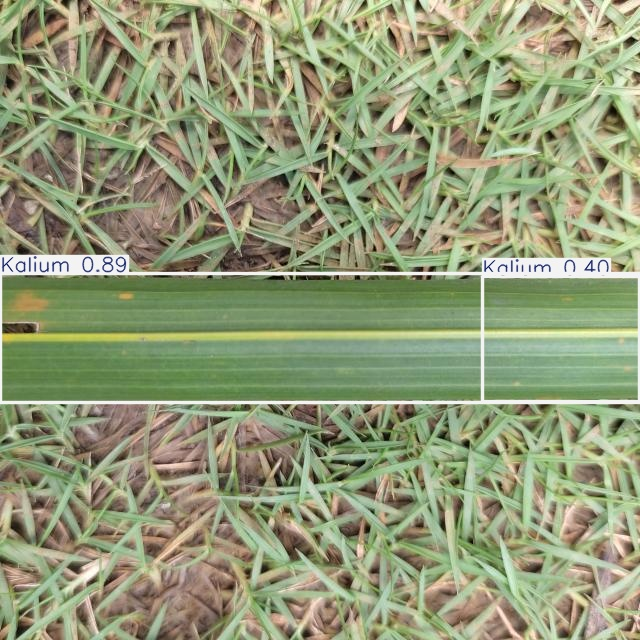Kalium: (0, 274, 640, 402), (482, 277, 640, 402)
